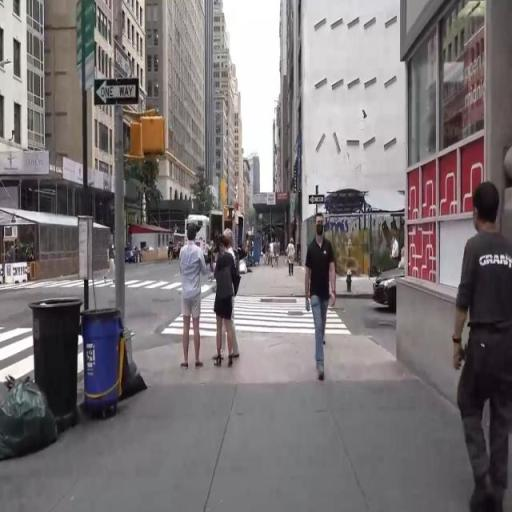person: (440, 185, 512, 512), (307, 210, 342, 389), (173, 225, 207, 375), (213, 237, 238, 370), (226, 223, 246, 351), (288, 236, 301, 288), (107, 238, 118, 285), (392, 237, 400, 266), (274, 239, 281, 269), (279, 239, 285, 271), (271, 240, 275, 271), (170, 236, 175, 250)
